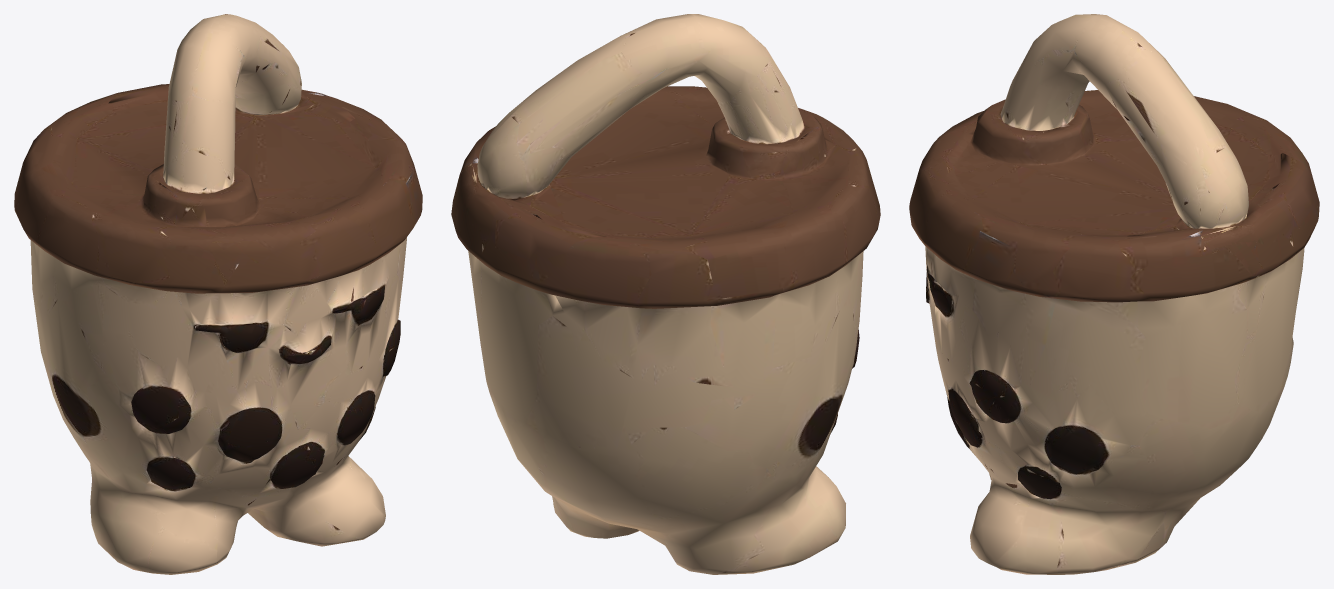
File: boba_buddy.glb
3 views of the same model, side by side, from view 1: azimuth 30°, elevation 25°; view 2: azimuth 150°, elevation 25°; view 3: azimuth 270°, elevation 25° (orthographic). The views are drawn at different scales.
Size of the model in its own units: 0.7531 by 0.9989 by 0.7515.
Materials: 1 (1 with a texture image).
